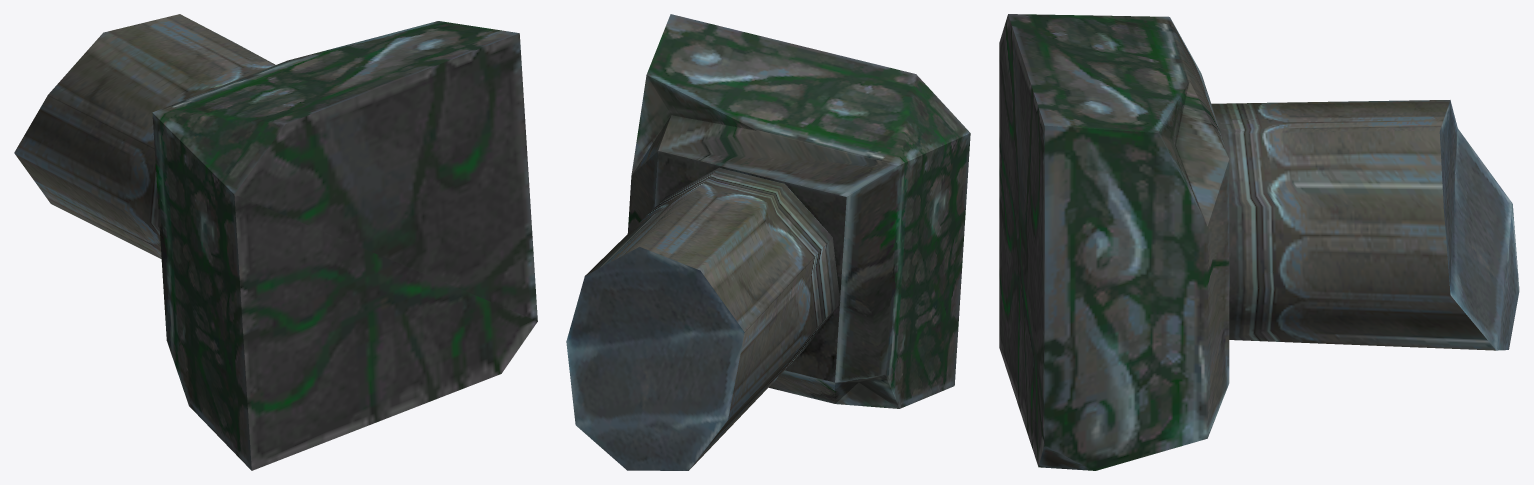
File: stemple_pillar_08.fbx
The picture shows the model from 3 angles, left to right: view 1: azimuth 30°, elevation 25°; view 2: azimuth 150°, elevation 25°; view 3: azimuth 270°, elevation 25°; orthographic projection. The views are drawn at different scales.
Parts seen in each view (by area): view 1: sunken_tileset/sunken_wall_convex02_mat; view 2: sunken_tileset/sunken_wall_convex02_mat; view 3: sunken_tileset/sunken_wall_convex02_mat.
Part boxes in pixels (left/top/right/bottom): sunken_tileset/sunken_wall_convex02_mat: left=14, top=14, right=537, bottom=470; sunken_tileset/sunken_wall_convex02_mat: left=566, top=14, right=970, bottom=470; sunken_tileset/sunken_wall_convex02_mat: left=999, top=14, right=1519, bottom=470.
Size of the model in its own units: 2.32 by 2.39 by 3.03.
